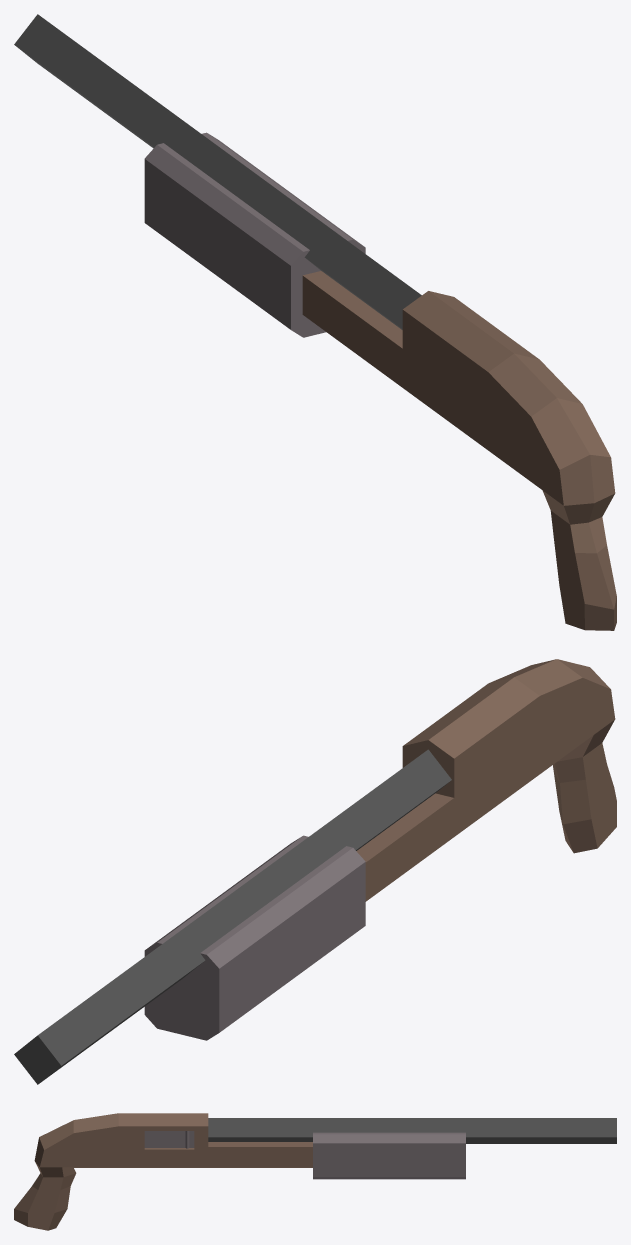
Rendered from shotgun.fbx.
3 renders of one model, top to bottom at view 1: azimuth 30°, elevation 25°; view 2: azimuth 150°, elevation 25°; view 3: azimuth 270°, elevation 25°, orthographic. The views are drawn at different scales.
Visible parts, largest first — view 1: Plane, Cube, Cube.001; view 2: Plane, Cube.001, Cube; view 3: Plane, Cube, Cube.001, Plane.001.
Boxes of the visible parts, x1,y1,x2,y2 form: Plane: (302,271,616,630); Cube: (14,14,421,329); Cube.001: (144,132,365,337); Plane: (356,659,616,901); Cube.001: (144,835,365,1040); Cube: (14,749,451,1084); Plane: (14,1113,312,1230); Cube: (208,1118,616,1143); Cube.001: (313,1132,465,1179); Plane.001: (144,1131,194,1148).
Size of the model in its own units: 37.98 by 107 by 507.
